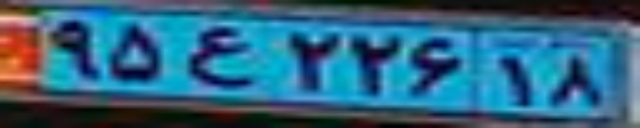1: (498, 52, 531, 106)
2: (347, 32, 400, 96), (286, 29, 340, 91)
5: (104, 23, 161, 81)
6: (407, 37, 462, 96)
8: (549, 53, 607, 109)
9: (48, 19, 95, 79)
ain: (183, 26, 259, 88)
